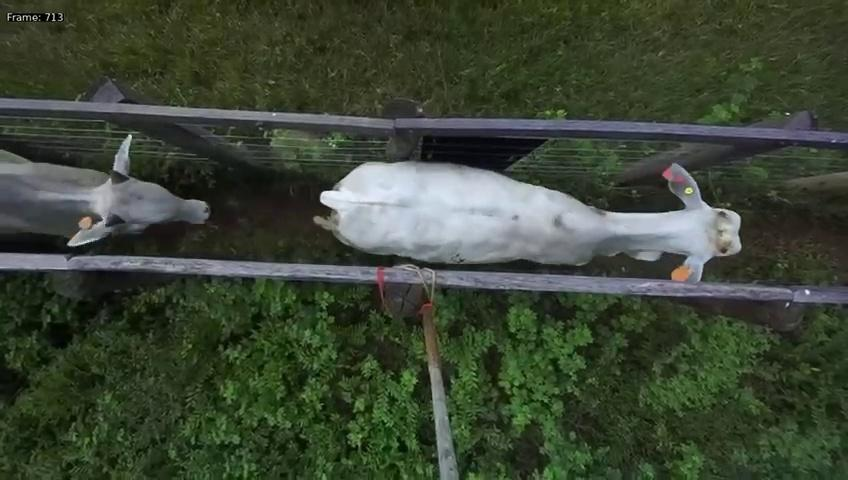cattle: (310, 153, 743, 280), (1, 131, 212, 251)
